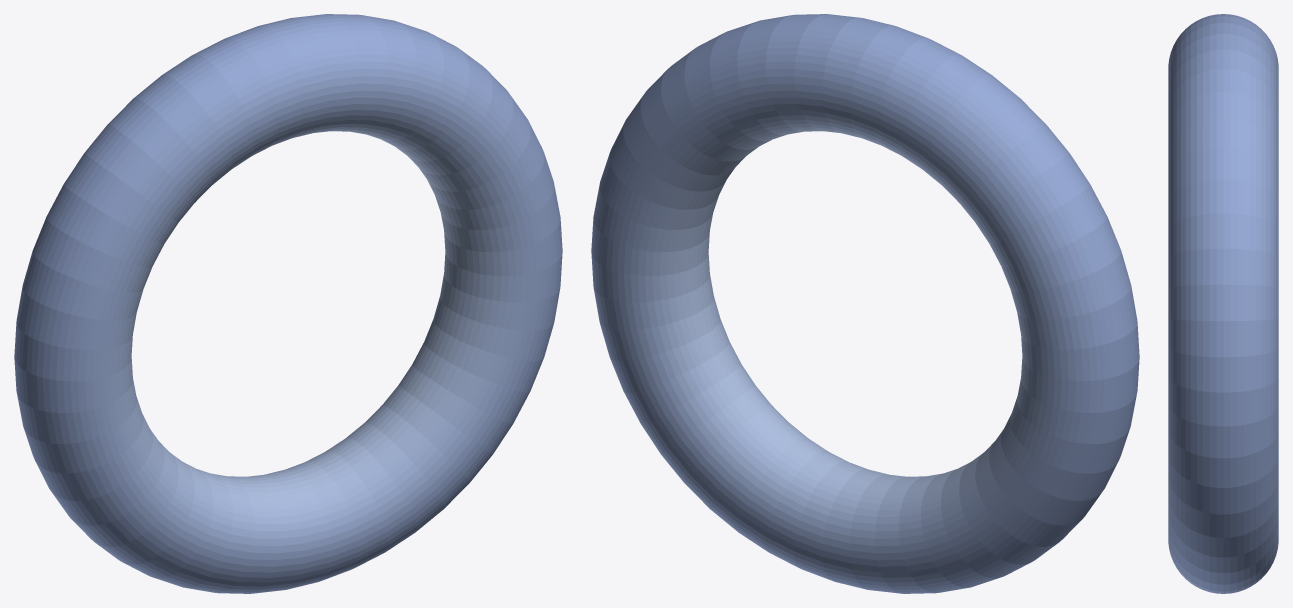
The picture shows the model from 3 angles, left to right: view 1: azimuth 30°, elevation 25°; view 2: azimuth 150°, elevation 25°; view 3: azimuth 270°, elevation 25°; orthographic projection. The views are drawn at different scales.
Parts seen in each view (by area): view 1: world; view 2: world; view 3: world.
Part boxes in pixels (<box>): world: <box>14,14,562,593</box>; world: <box>591,14,1139,593</box>; world: <box>1168,14,1278,593</box>.
Size of the model in its own units: 23.07 by 23.02 by 4.39.
